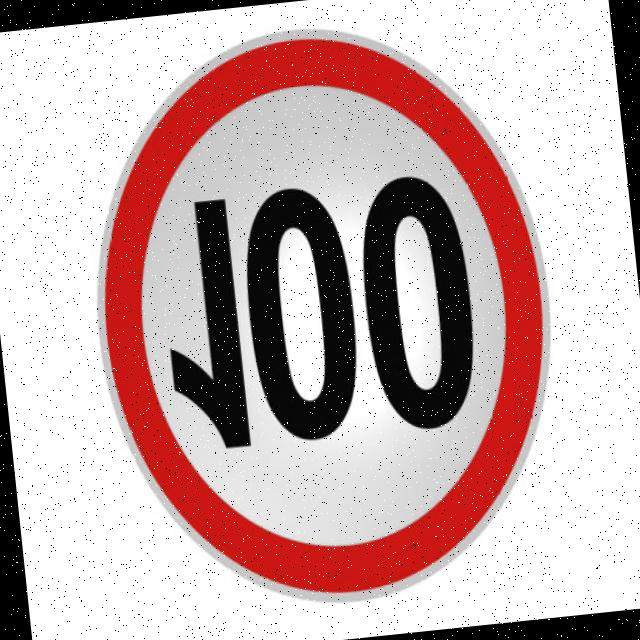speed_limit_100: (58, 0, 589, 640)
